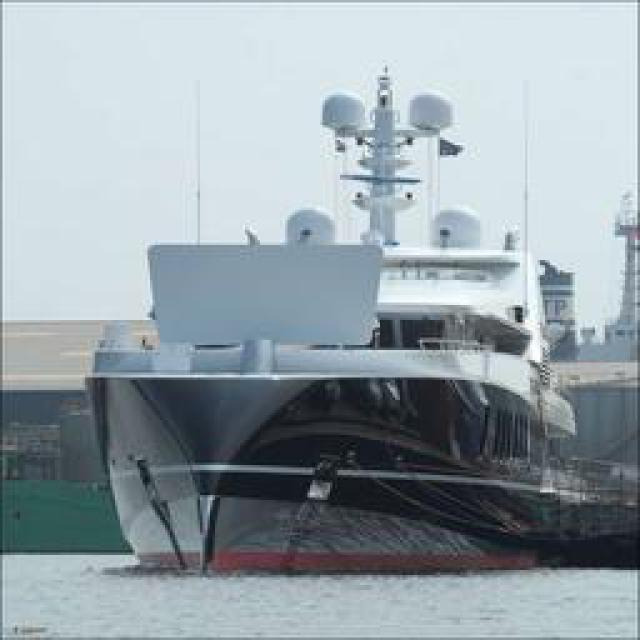Ship: (82, 213, 630, 578)
